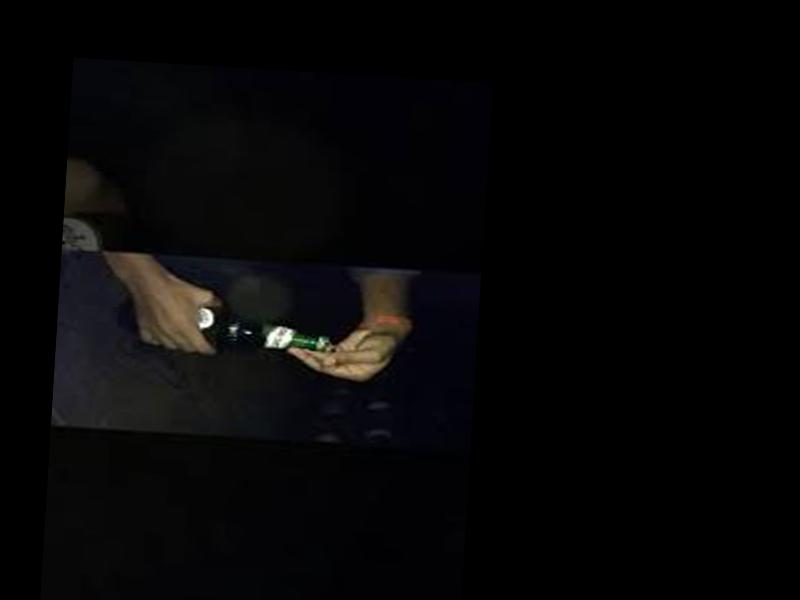Beer: (118, 292, 331, 357)
